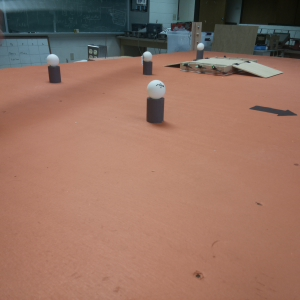corner: (191, 20, 204, 41)
obstacle: (147, 78, 165, 125), (48, 53, 62, 84), (140, 51, 154, 76), (196, 42, 204, 57)
side: (180, 62, 225, 78)
slope: (233, 60, 283, 77)
start: (248, 103, 298, 119)
